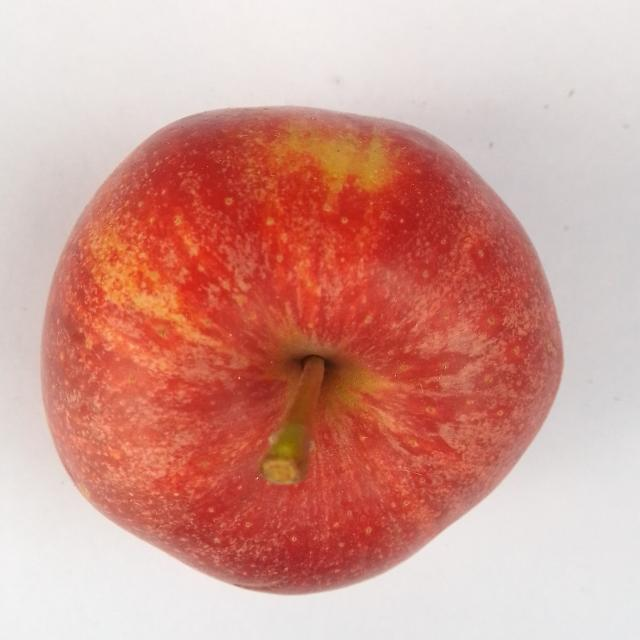Fresh Apple: (45, 108, 562, 597)
